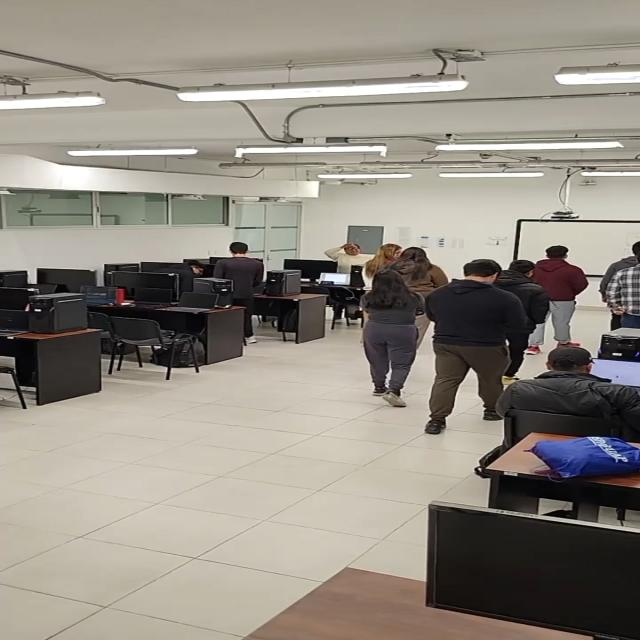Persona: (428, 257, 509, 436), (356, 267, 420, 410), (500, 262, 549, 384), (535, 246, 586, 356), (604, 256, 640, 334), (396, 239, 445, 293)
